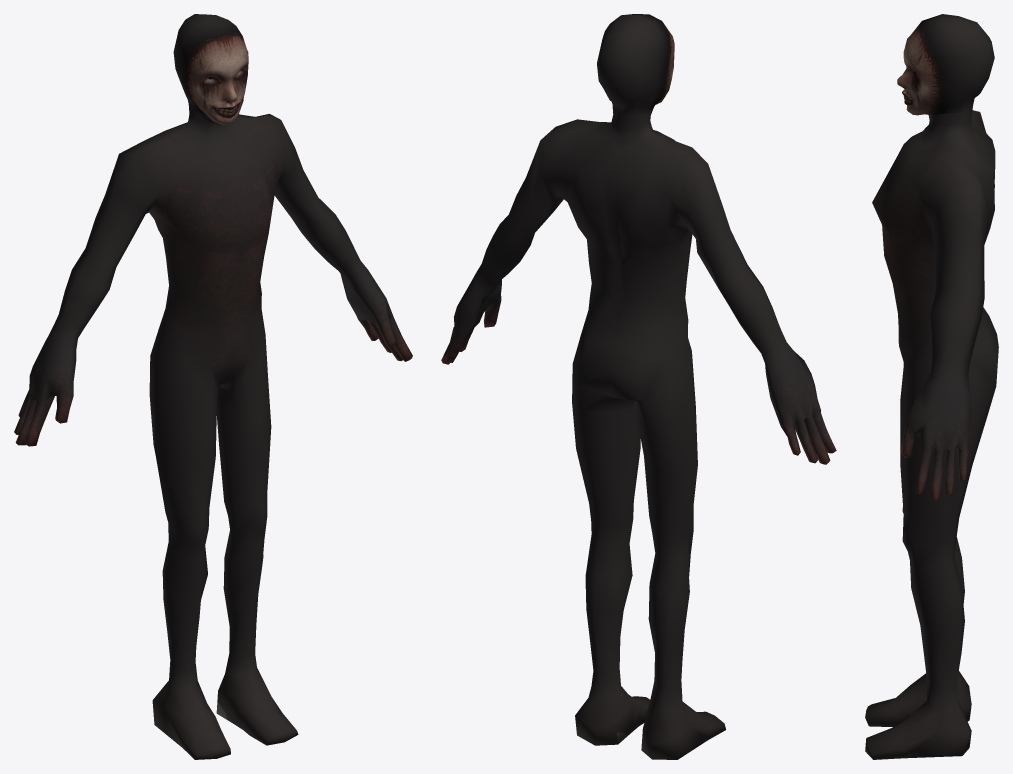
File: bro.fbx
The picture shows the model from 3 angles, left to right: view 1: azimuth 30°, elevation 25°; view 2: azimuth 150°, elevation 25°; view 3: azimuth 270°, elevation 25°; orthographic projection. The views are drawn at different scales.
Parts seen in each view (by area): view 1: Plane006; view 2: Plane006; view 3: Plane006.
Part boxes in pixels (x1,y1,x2,y2): Plane006: (14, 14, 412, 759); Plane006: (441, 14, 836, 759); Plane006: (865, 14, 998, 759).
Size of the model in its own units: 207 by 365 by 61.72.
Materials: 1 (1 with a texture image).
